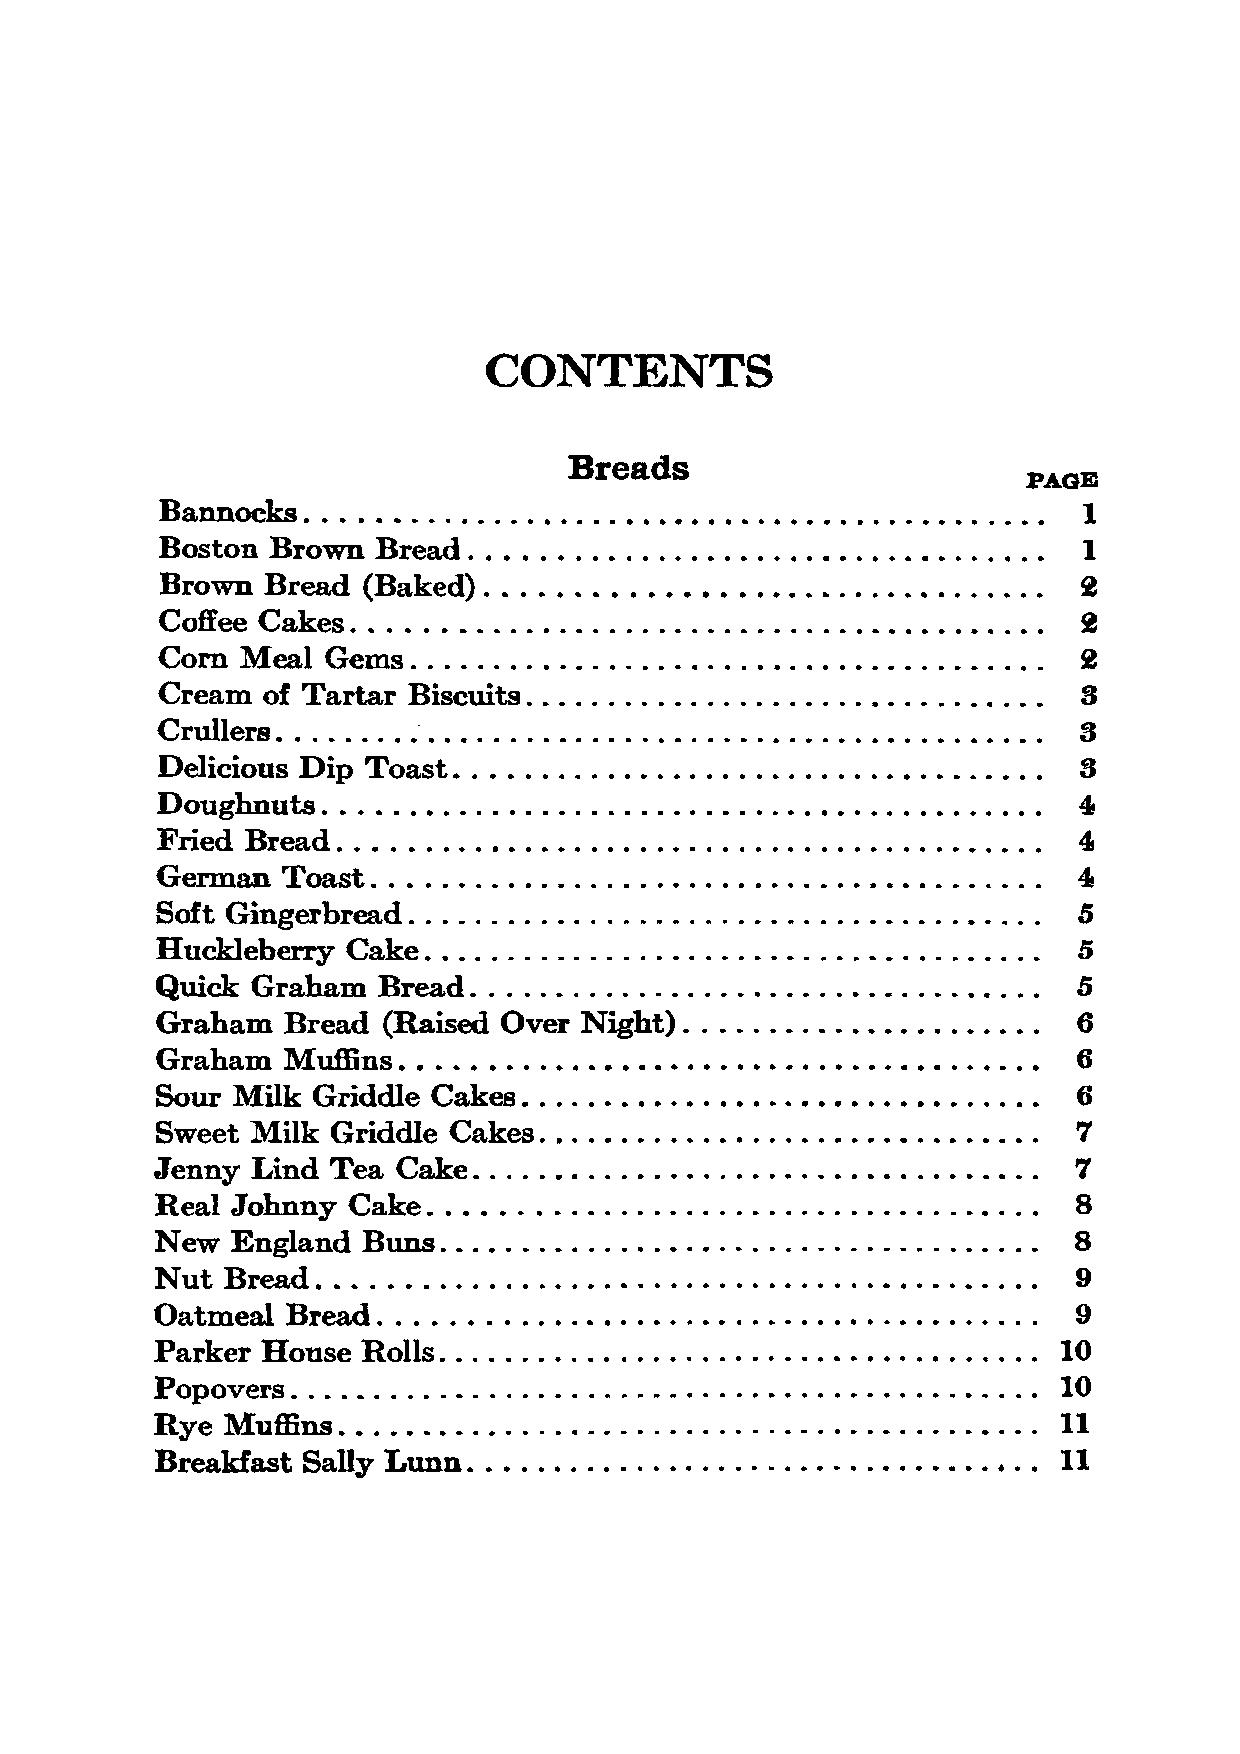TOC_chapter: (154, 1005, 676, 1035), (154, 676, 526, 707), (152, 1118, 538, 1147), (154, 1080, 518, 1110), (158, 569, 478, 603), (148, 1151, 474, 1182), (153, 1445, 464, 1478), (156, 531, 467, 562), (153, 970, 463, 1001), (156, 750, 450, 782), (153, 933, 421, 965), (150, 1225, 435, 1255), (152, 1335, 433, 1365), (152, 896, 403, 929), (153, 1190, 425, 1219), (157, 641, 405, 671), (153, 1044, 395, 1072), (150, 1299, 374, 1329), (154, 859, 364, 890), (153, 1409, 335, 1439), (148, 1260, 311, 1292), (158, 607, 345, 635), (153, 825, 334, 854), (568, 446, 692, 486), (157, 788, 315, 819), (149, 1372, 287, 1406), (157, 495, 301, 523), (153, 715, 274, 741)
TOC_pagenumber: (1059, 1369, 1094, 1398), (1057, 1445, 1092, 1472), (1059, 1410, 1092, 1433), (1062, 1341, 1091, 1363), (1074, 1261, 1096, 1288), (1076, 1190, 1096, 1220), (1071, 1154, 1094, 1180), (1079, 643, 1100, 670), (1074, 1009, 1095, 1036), (1080, 682, 1100, 709), (1080, 495, 1099, 523), (1078, 862, 1094, 892), (1072, 1117, 1092, 1141), (1078, 608, 1096, 633), (1082, 718, 1100, 743), (1080, 537, 1100, 560), (1078, 828, 1098, 851), (1082, 570, 1098, 599), (1075, 1302, 1092, 1327), (1075, 937, 1095, 958), (1074, 1228, 1092, 1251), (1076, 1041, 1091, 1070), (1074, 1082, 1091, 1104), (1075, 972, 1092, 993), (1074, 905, 1094, 922), (1080, 794, 1094, 817), (1082, 758, 1094, 780)
chapter: (484, 348, 778, 393)
